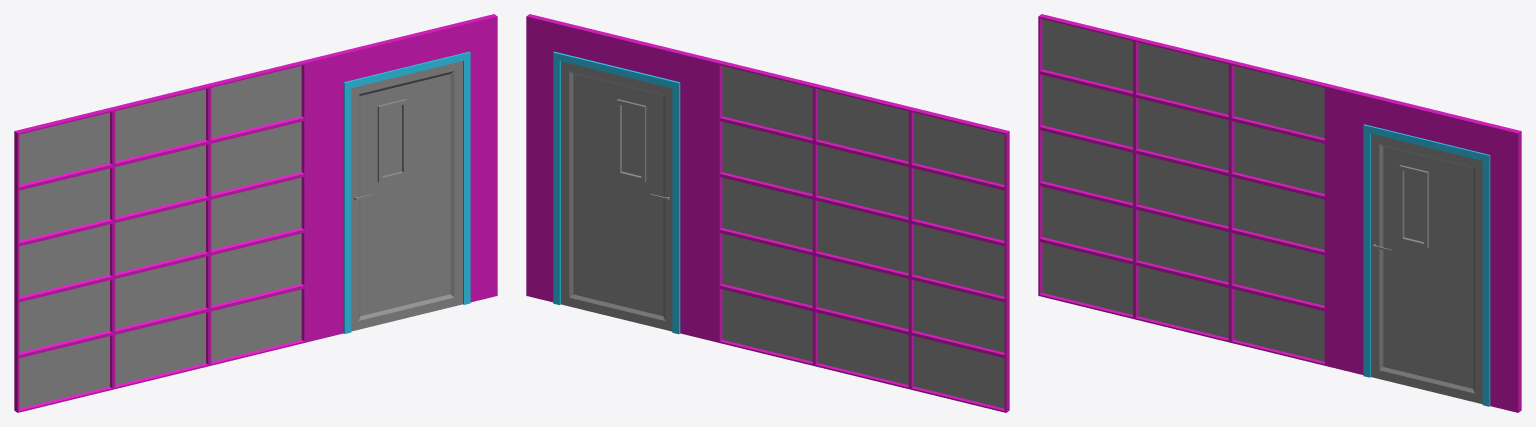
The model's file is glass_wall_and_door.FBX.
The picture shows the model from 3 angles, left to right: view 1: azimuth 30°, elevation 25°; view 2: azimuth 150°, elevation 25°; view 3: azimuth 330°, elevation 25°; orthographic projection.
Parts seen in each view (by area): view 1: glass_wall_and_door, WH_Door002; view 2: glass_wall_and_door, WH_Door002; view 3: glass_wall_and_door, WH_Door002.
Boxes of the visible parts, x1,y1,x2,y2 form: glass_wall_and_door: (14,14,497,412); WH_Door002: (351,61,462,331); glass_wall_and_door: (526,14,1009,412); WH_Door002: (561,61,672,331); glass_wall_and_door: (1038,14,1521,412); WH_Door002: (1371,134,1482,404).
Size of the model in its own units: 480 by 12.99 by 267.
